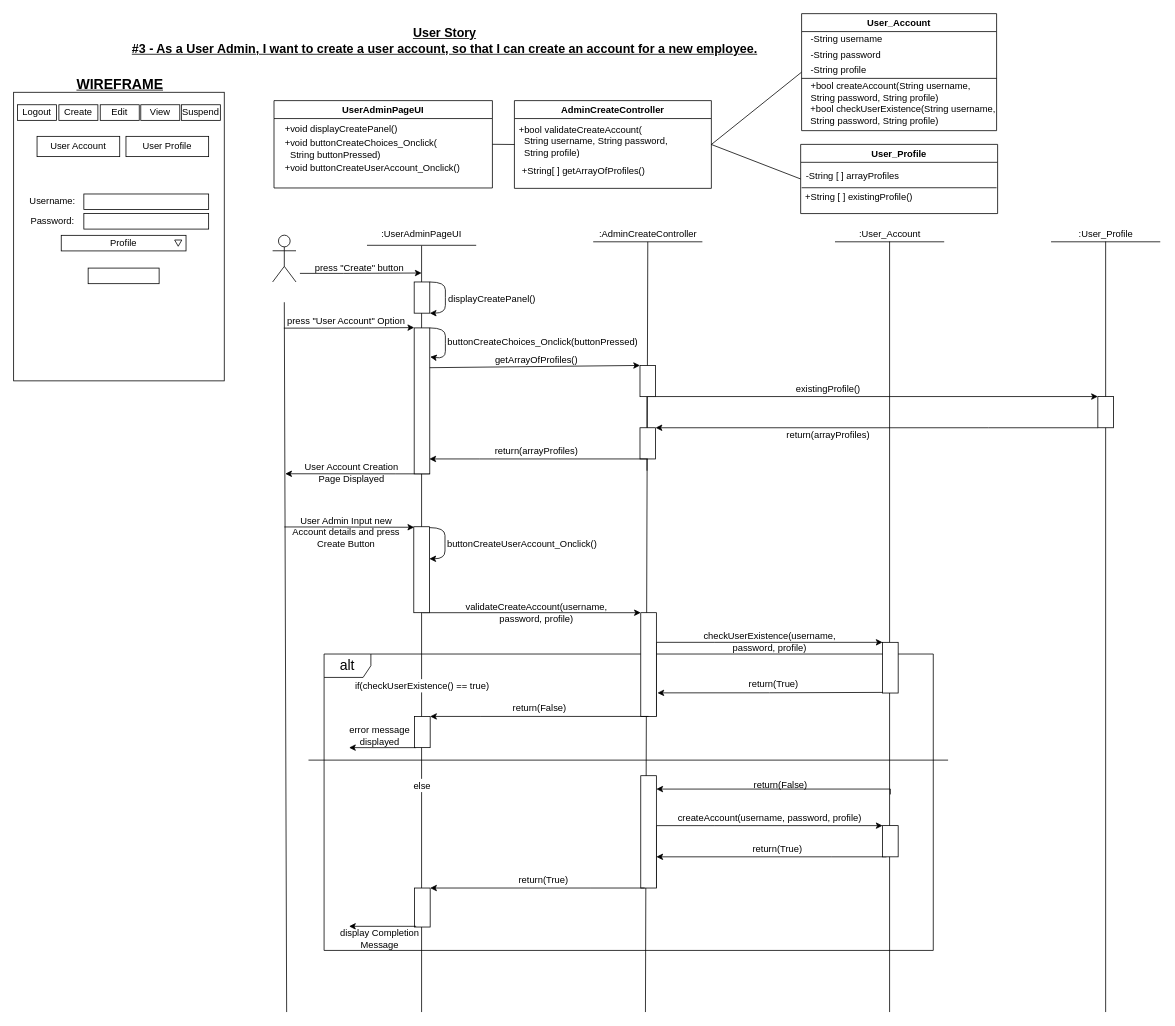
This 1175x1026 diagram has some shape labels left out. Here are the shapes that lost their labels. From the top down, the centre of each, then its label:
the point at 123,275: Create Account
the point at 284,258: User Admin
